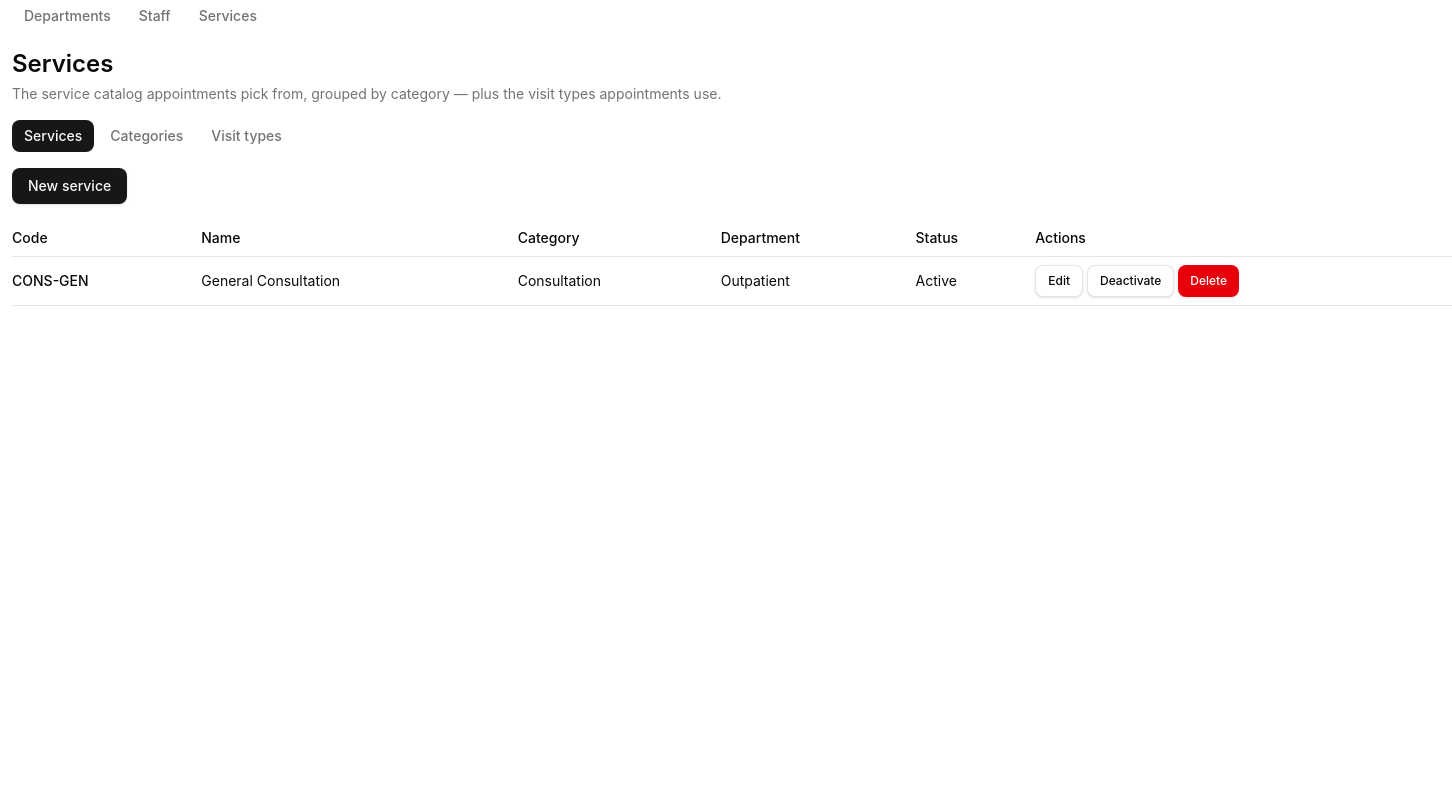
Scenario: ServicesPage › shows the backend field error when the service code already exists
Click the button "New service" at (70, 186), box [12,168,127,204]
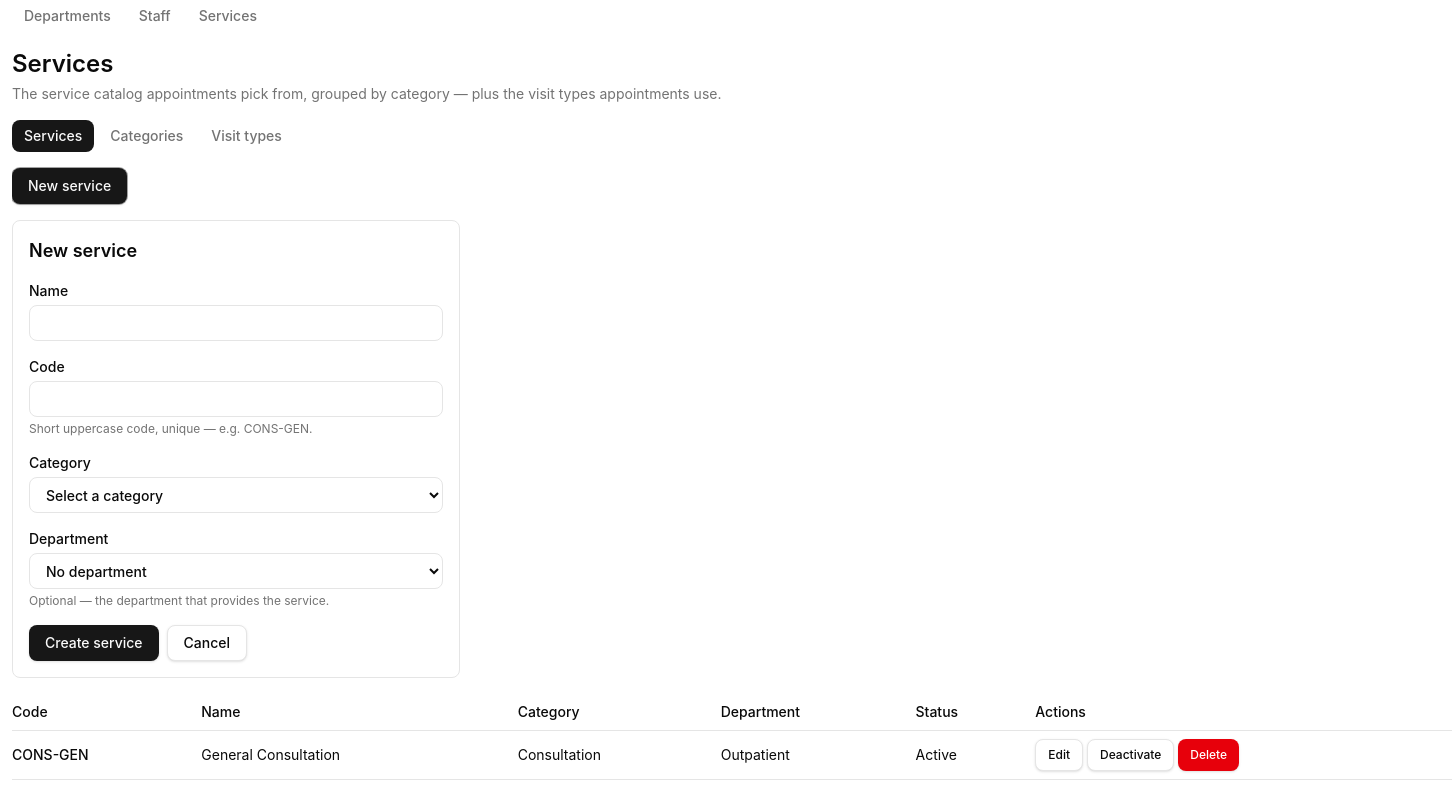
Type "General Consultation" into the field labelled "Name" at (236, 323), box [29,305,443,341]
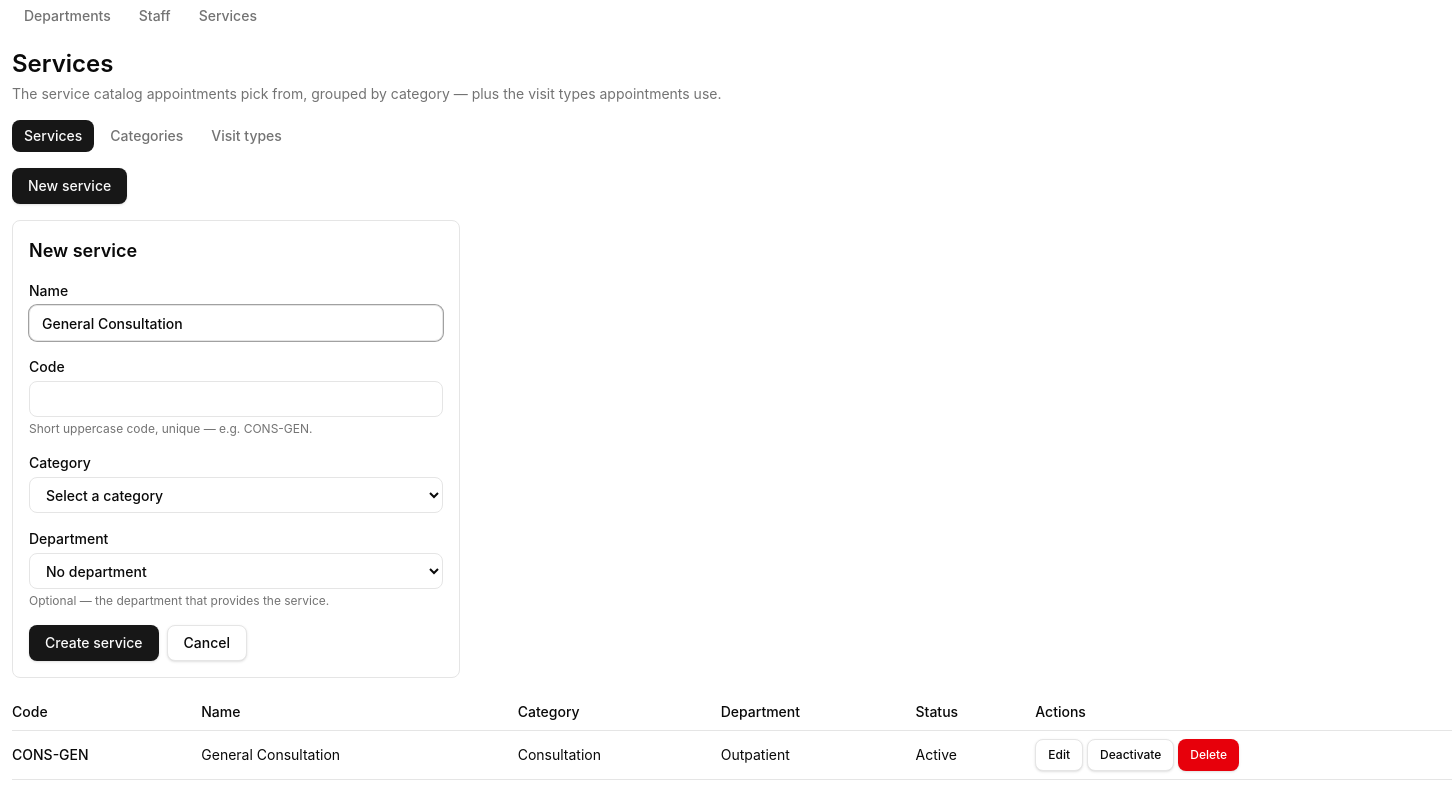
Type "CONS-GEN" into the field labelled "Code" at (236, 399), box [29,381,443,417]
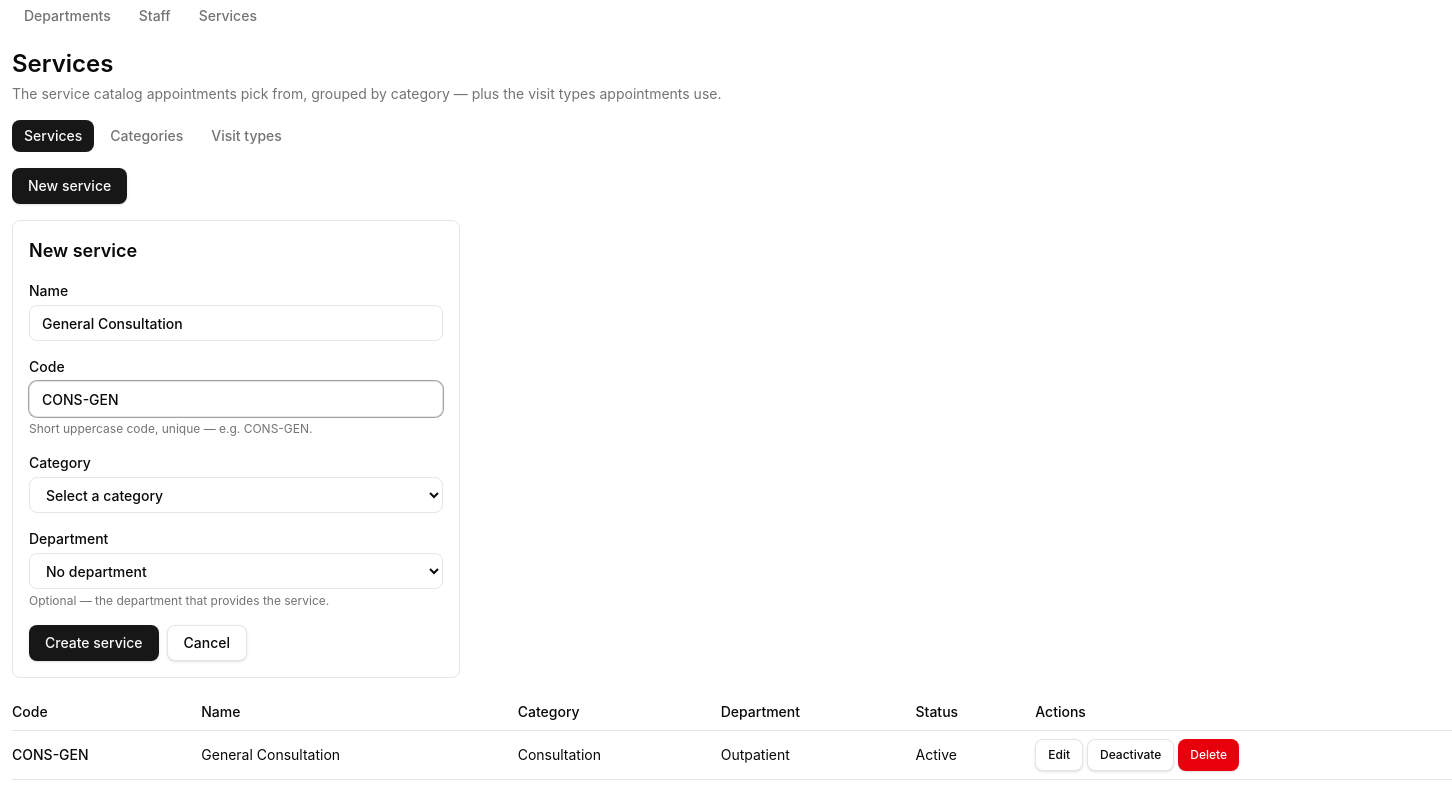
Select "Consultation" in the dropdown labelled "Category" at (236, 495), box [29,477,443,513]
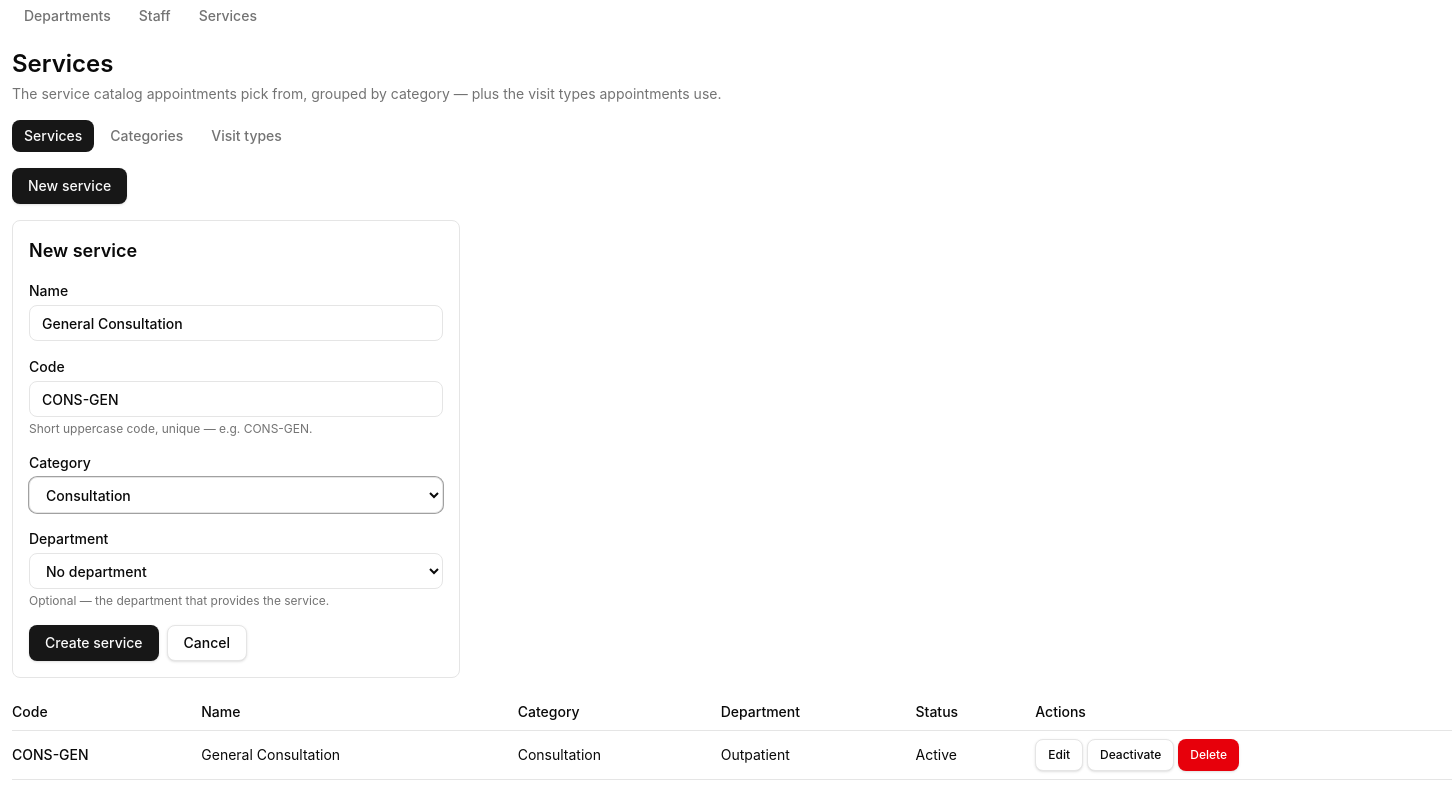
Click the button "Create service" at (94, 643), box [29,625,159,661]
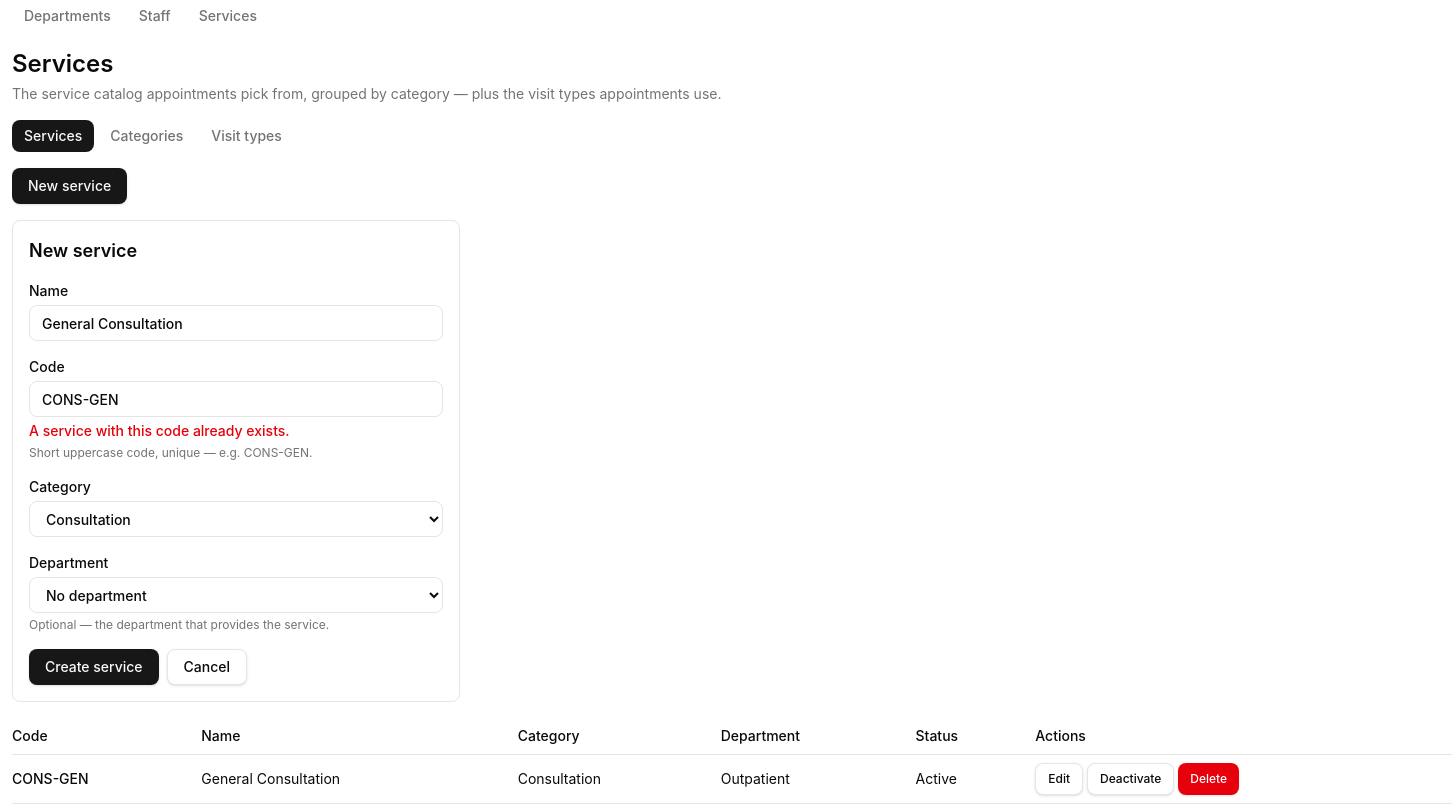
Expected: the text "A service with this code already exists." is shown, [29,422,290,439]
